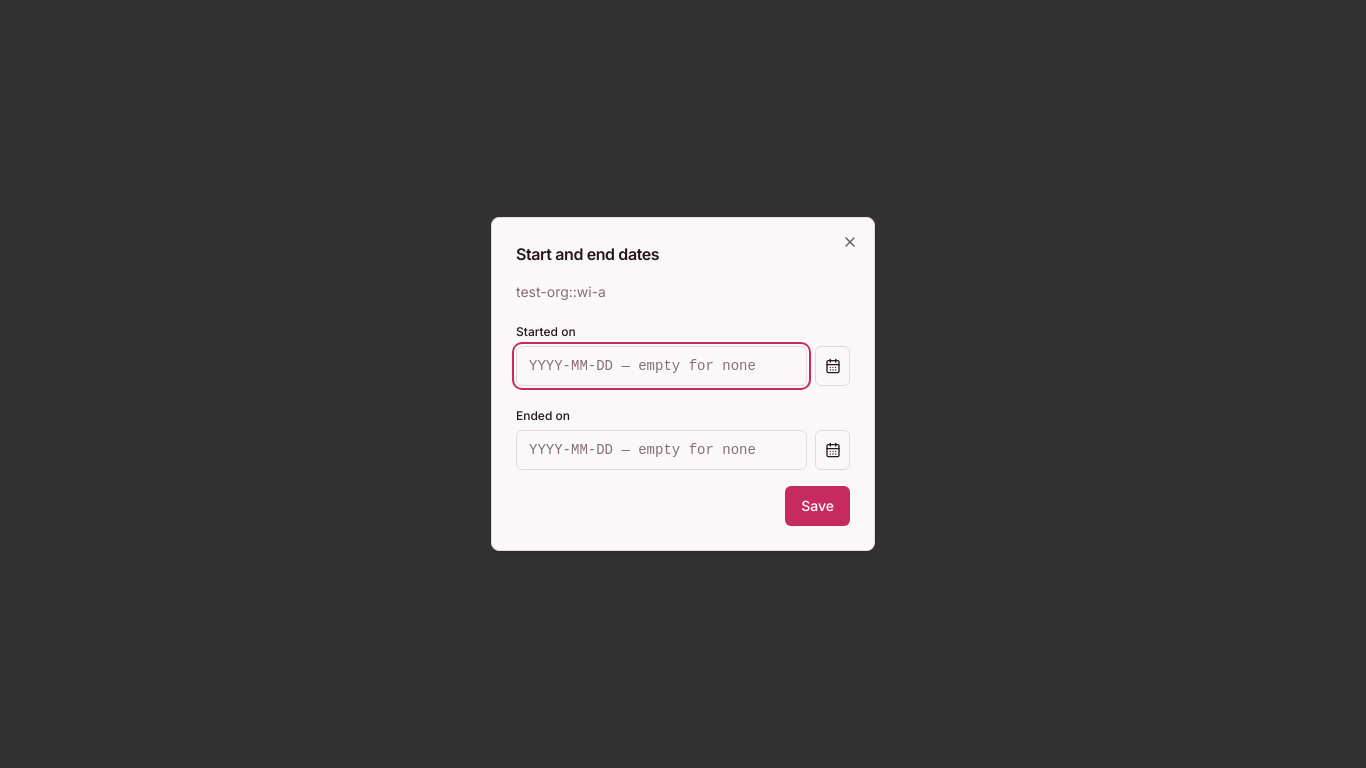
Scenario: the dialog › refuses an end before the start, and a date that is not one
Type "2026-10-05" into the field labelled "Started on" at (662, 366), box [516, 346, 807, 386]
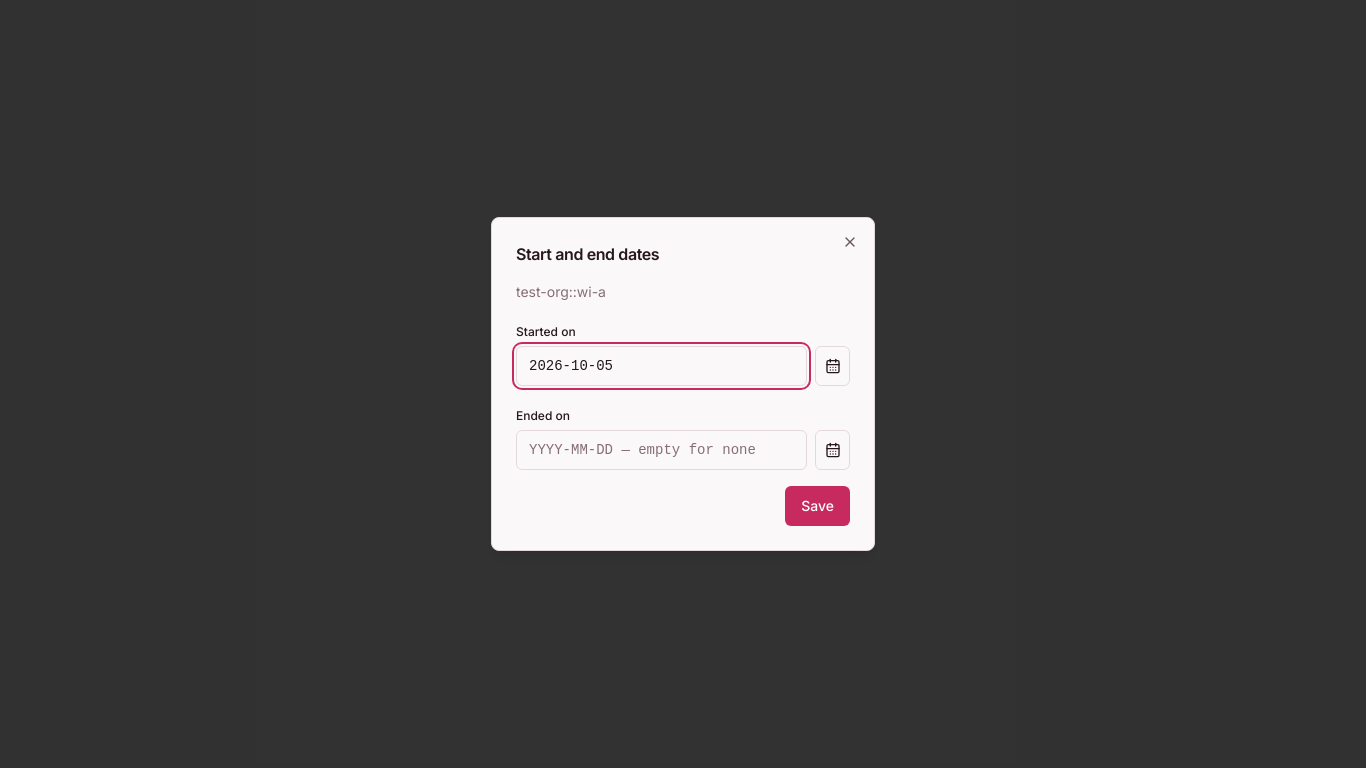
Type "2026-10-01" into the field labelled "Ended on" at (662, 450), box [516, 430, 807, 470]
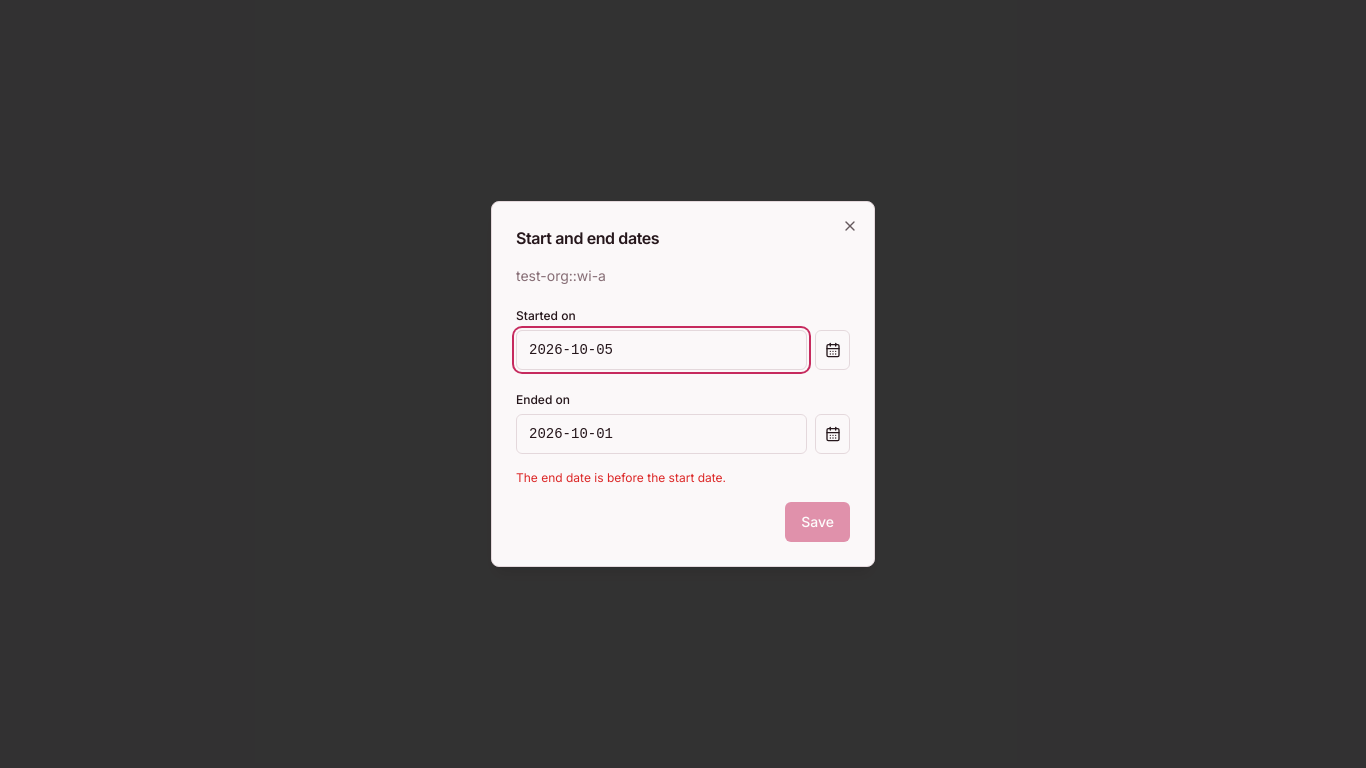
Expected: the message reads "The end date is before the start date.", [516, 470, 726, 485]
Expected: the button "Save" is disabled, [785, 502, 850, 542]
Replace the text in the field labelled "Ended on" with "nonsense" at (662, 434), box [516, 414, 807, 454]
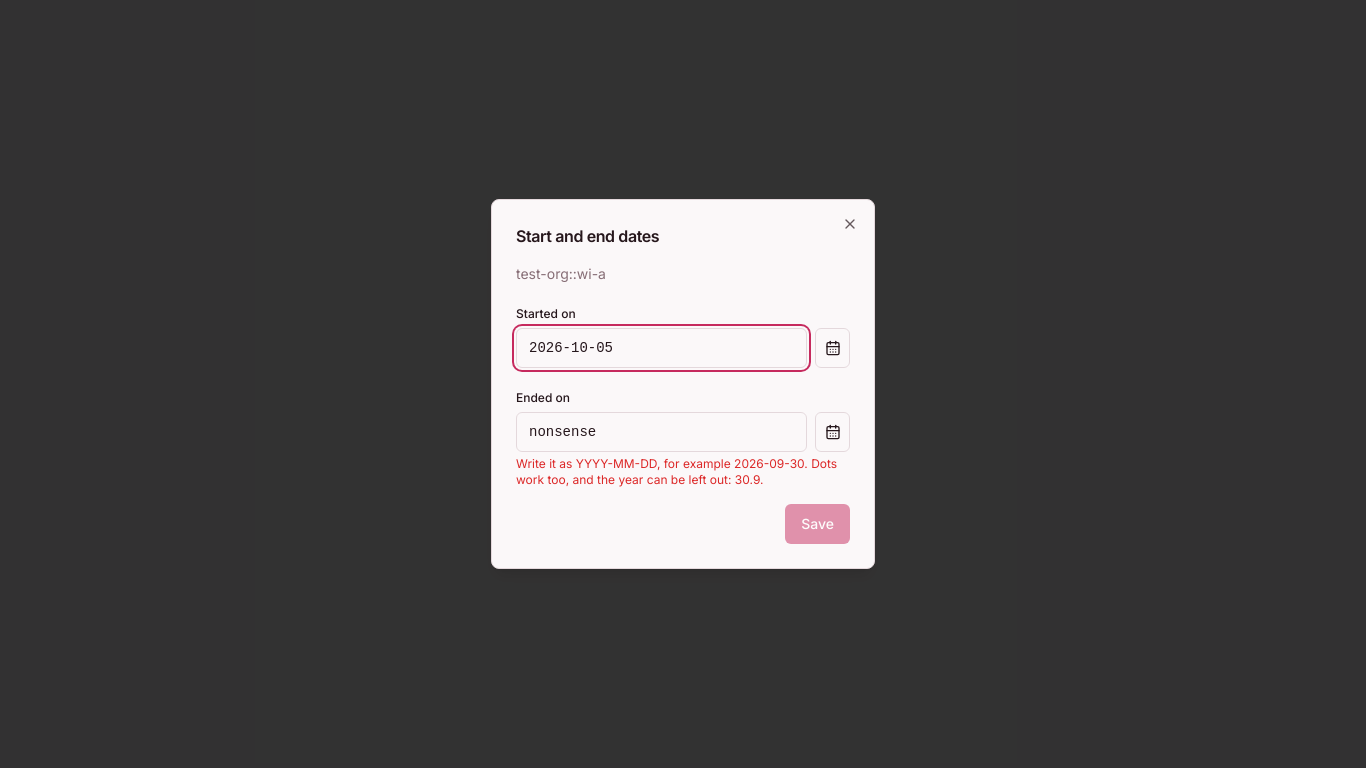
Expected: the button "Save" is disabled, [785, 504, 850, 544]
Replace the text in the field labelled "Ended on" with "2026-10-06" at (662, 432), box [516, 412, 807, 452]
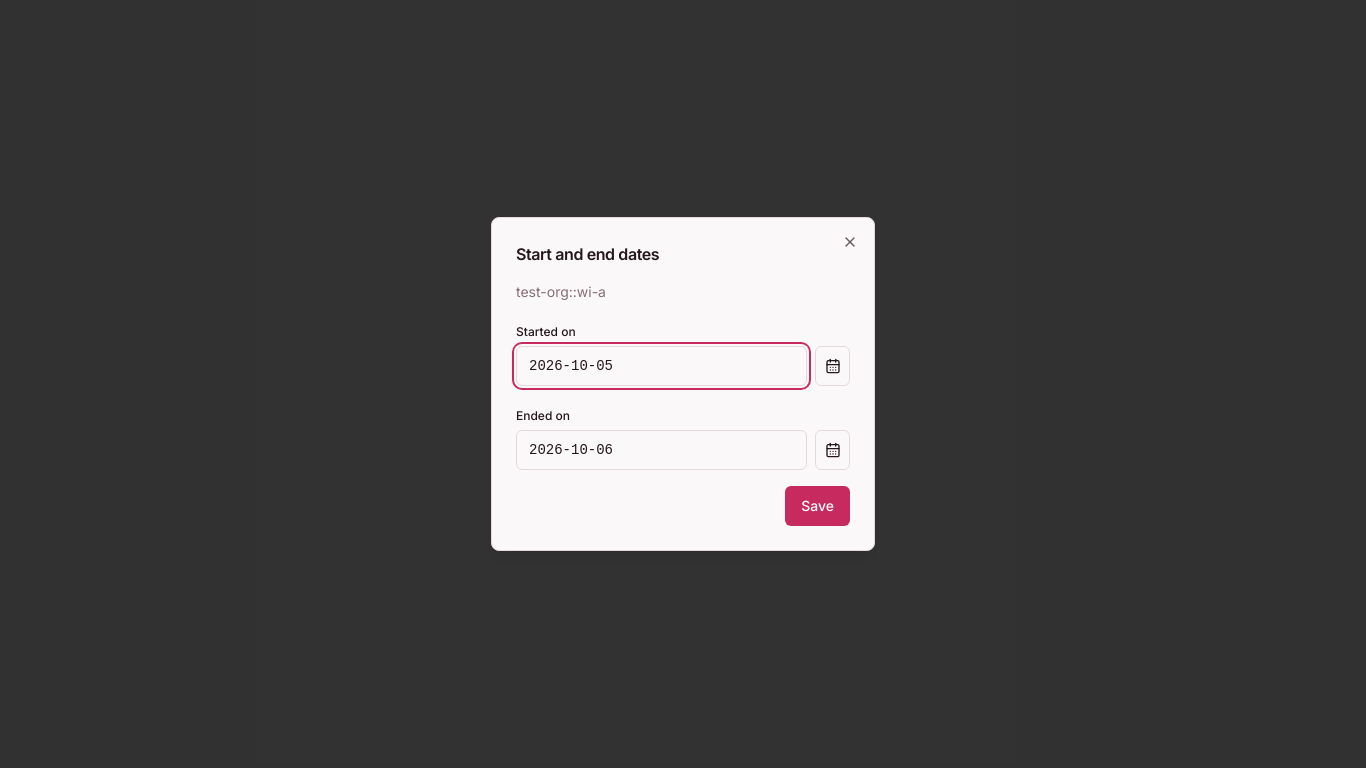
Expected: the button "Save" is enabled, [785, 486, 850, 526]
